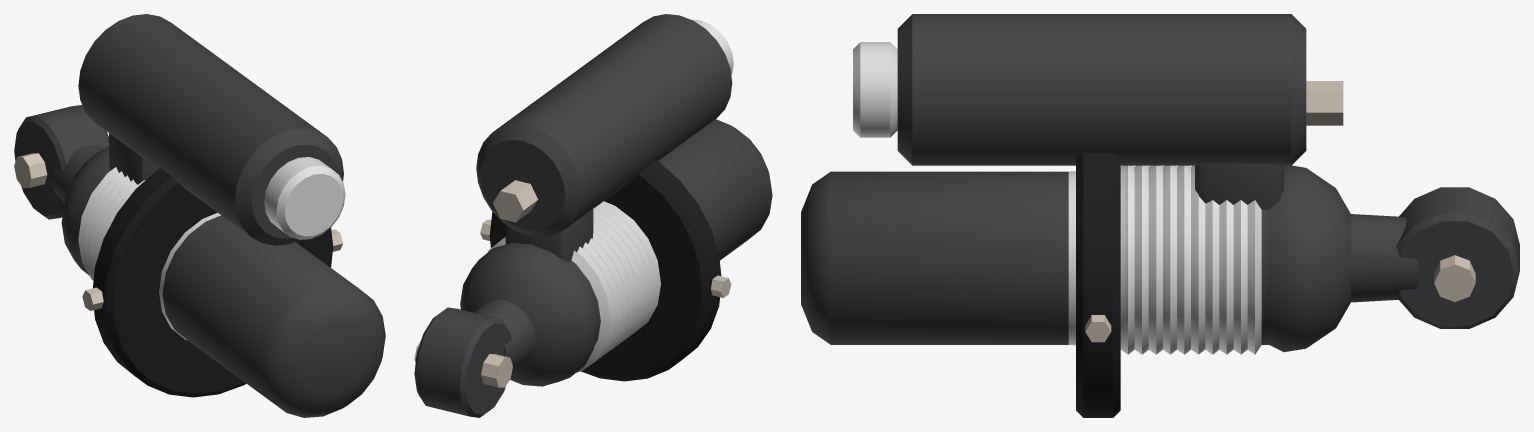
The model's file is SM_Susp_RR_Damper.fbx.
3 renders of one model, left to right at view 1: azimuth 30°, elevation 25°; view 2: azimuth 150°, elevation 25°; view 3: azimuth 270°, elevation 25°, orthographic. The views are drawn at different scales.
Visible parts, largest first — view 1: Export_Susp_RR_Damper; view 2: Export_Susp_RR_Damper; view 3: Export_Susp_RR_Damper.
Part boxes in pixels (bbox=[...]): Export_Susp_RR_Damper: bbox=[14, 14, 385, 417]; Export_Susp_RR_Damper: bbox=[414, 14, 772, 417]; Export_Susp_RR_Damper: bbox=[801, 14, 1519, 417].
Bounding box in the file's own units: 0.1935 × 0.094 × 0.1135.
